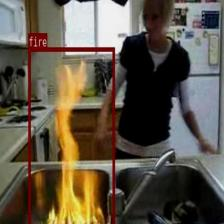fire: (27, 47, 114, 224)
